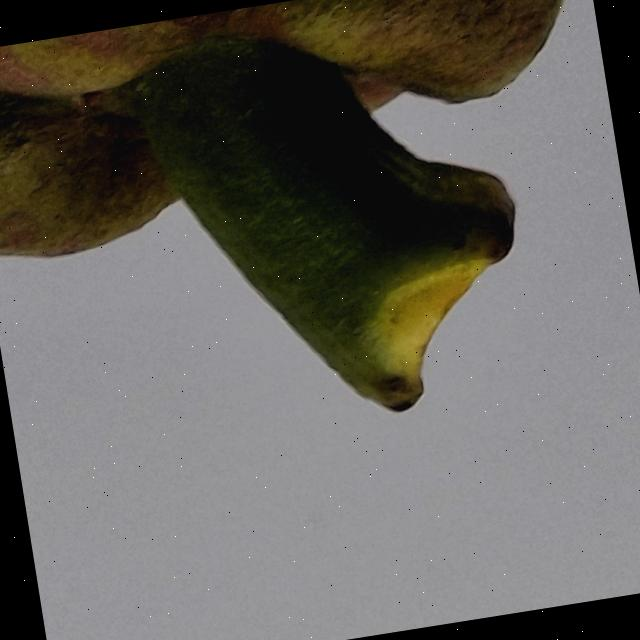mangosteen: (0, 0, 640, 558)
